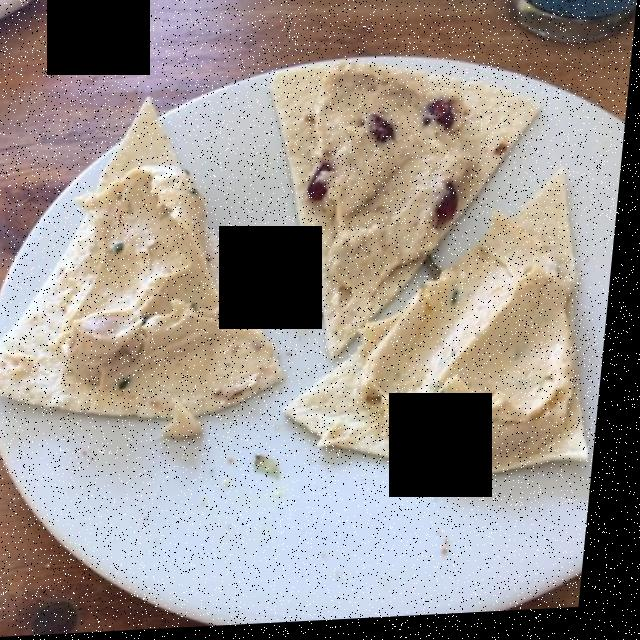fajita-bread-only: (0, 65, 596, 485)
hummus: (72, 69, 591, 463)
